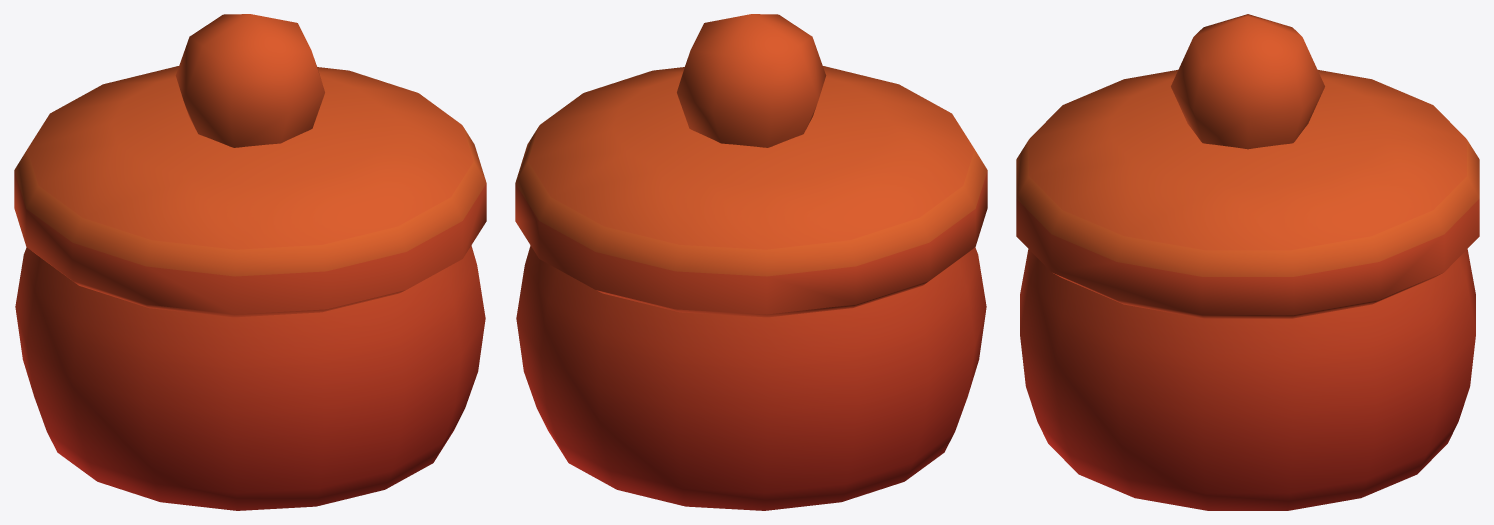
The model's file is Container Kitchen B-RYYfoJovT9.glb.
The picture shows the model from 3 angles, left to right: view 1: azimuth 30°, elevation 25°; view 2: azimuth 150°, elevation 25°; view 3: azimuth 270°, elevation 25°; orthographic projection.
Parts seen in each view (by area): view 1: container_kitchen_B_red; view 2: container_kitchen_B_red; view 3: container_kitchen_B_red.
Boxes of the visible parts, left/top/right/bottom form: container_kitchen_B_red: left=14, top=14, right=486, bottom=510; container_kitchen_B_red: left=515, top=14, right=987, bottom=510; container_kitchen_B_red: left=1016, top=14, right=1479, bottom=510.
Bounding box in the file's own units: 0.4 × 0.3995 × 0.4.
1 material, 1 textured.
